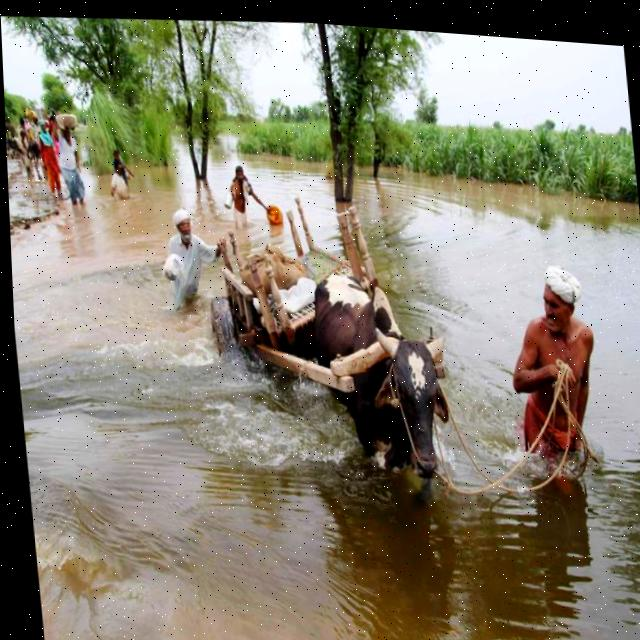civilian: (494, 254, 610, 510), (148, 197, 219, 324), (50, 118, 99, 218), (220, 157, 266, 242), (36, 119, 66, 199), (106, 160, 138, 207), (111, 145, 140, 185)
cow: (301, 252, 467, 509)
